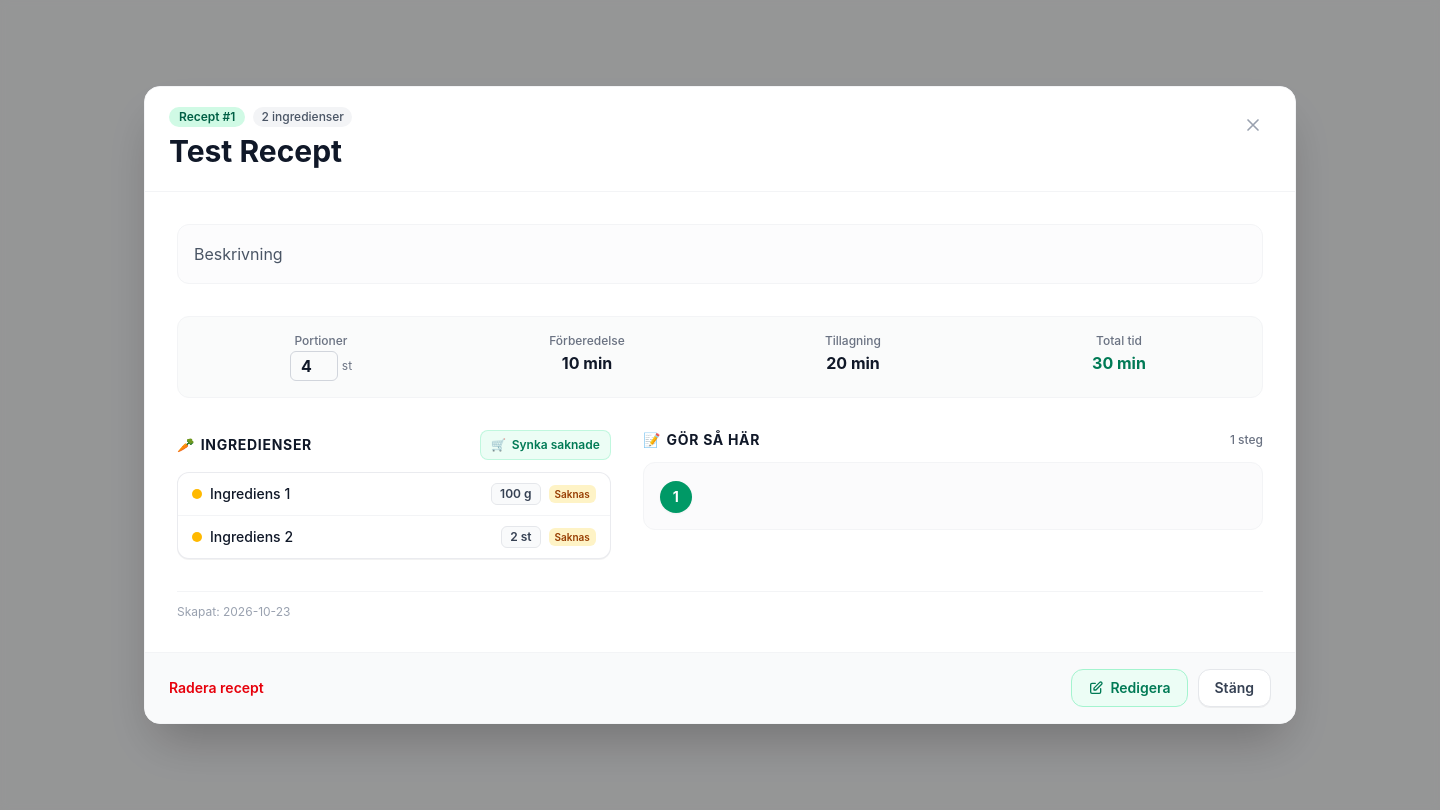
Scenario: RecipeDetailsModal.vue › scales ingredients correctly when portions change
Expected: the text "100 g" is shown, [491, 483, 540, 505]
Expected: the text with class "font-semibold" reads "100 g", [500, 486, 532, 501]
Replace the text in the number field with "8" at (314, 366), box [290, 351, 338, 381]
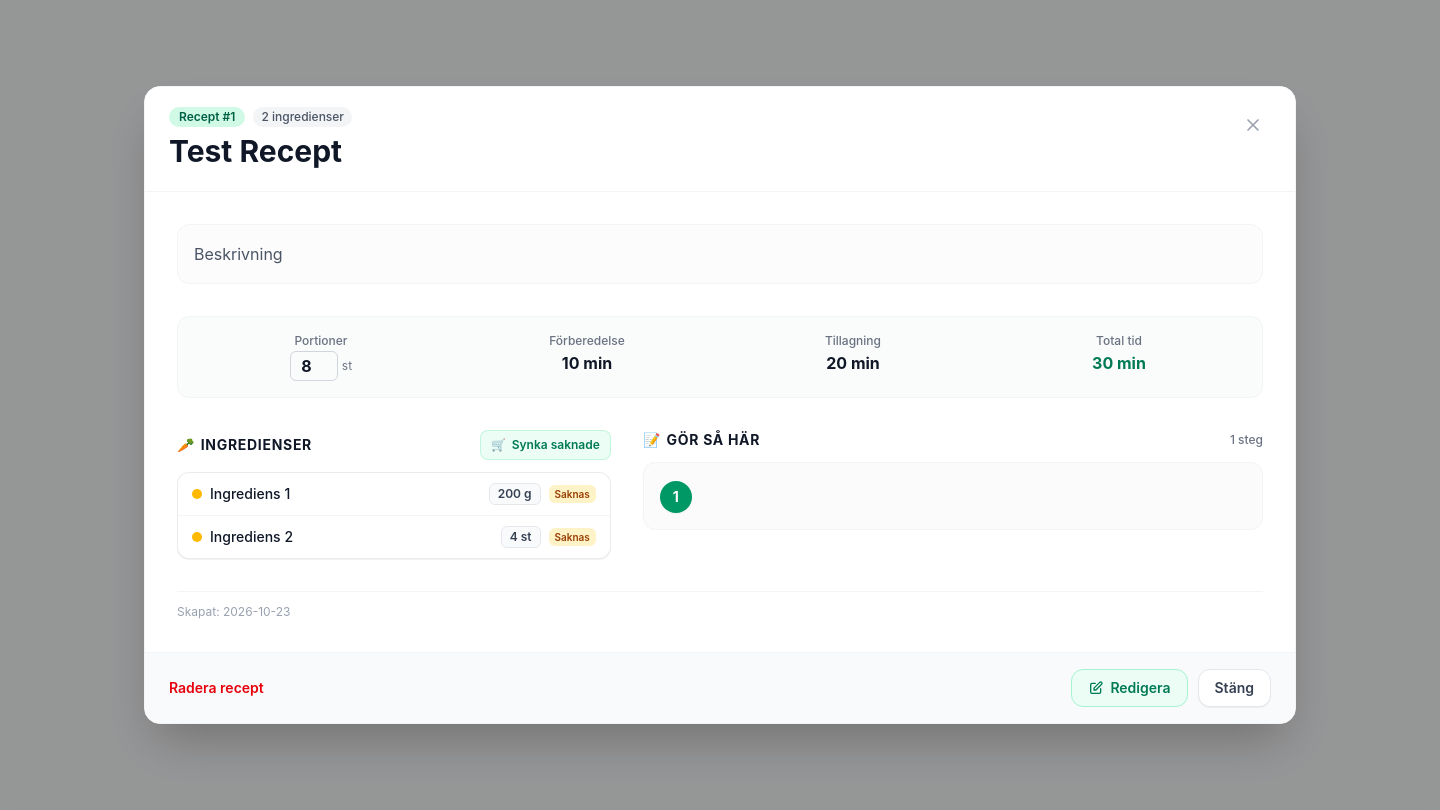
Expected: the text "200 g" is shown, [489, 483, 540, 505]
Now the text with class "font-semibold" reads "200 g", box [498, 486, 532, 501]
Now the text with class "font-semibold" reads "4 st", box [510, 529, 532, 544]
Replace the text in the number field with "2" at (314, 366), box [290, 351, 338, 381]
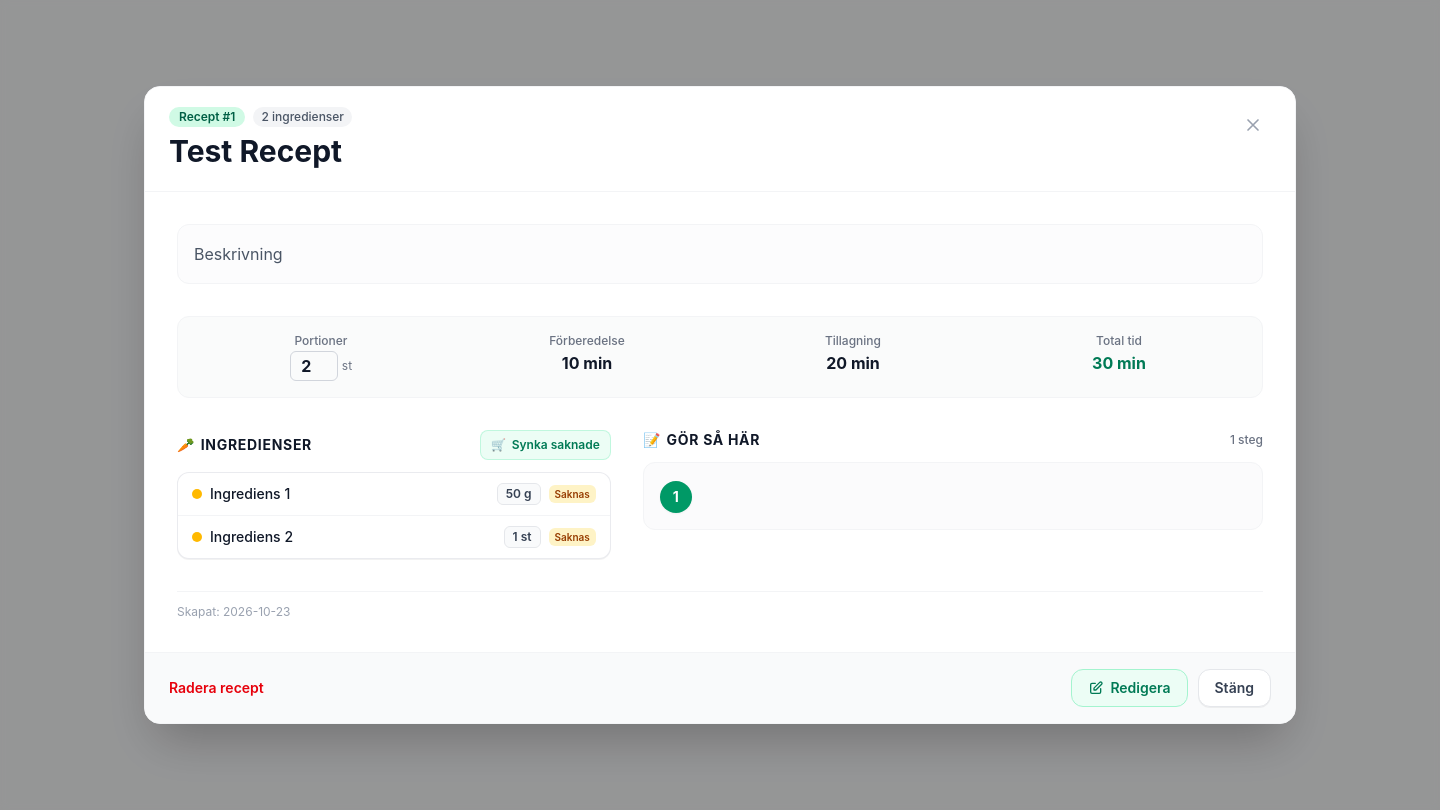
Expected: the text "50 g" is shown, [497, 483, 540, 505]
Now the text with class "font-semibold" reads "50 g", box [506, 486, 532, 501]
Now the text with class "font-semibold" reads "1 st", box [513, 529, 532, 544]
